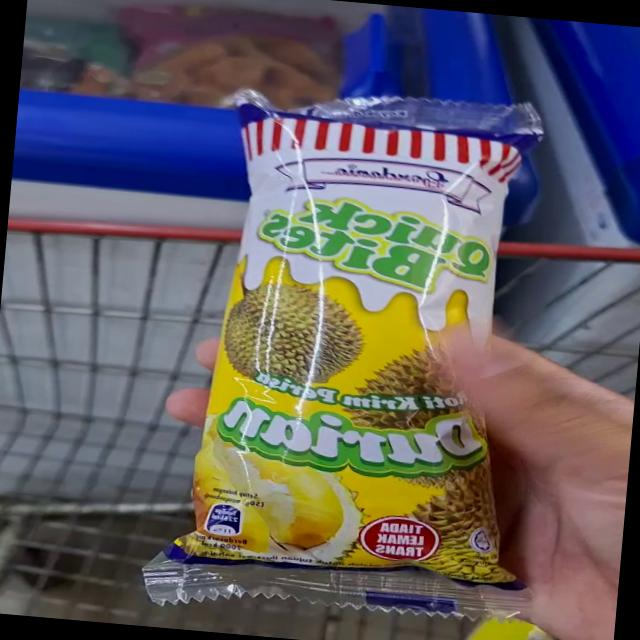Roti: (114, 318, 546, 636), (192, 76, 554, 386)
